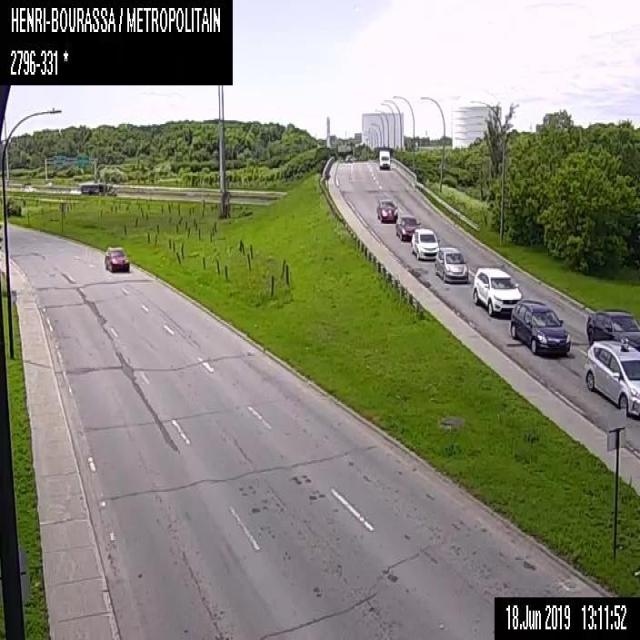vehicle: (584, 337, 639, 417), (510, 298, 570, 356), (471, 266, 522, 316), (586, 309, 639, 349), (433, 246, 468, 283), (409, 228, 439, 259), (394, 213, 420, 240), (102, 247, 130, 272), (79, 180, 116, 195), (377, 197, 398, 222), (377, 148, 389, 169), (25, 184, 34, 191)
